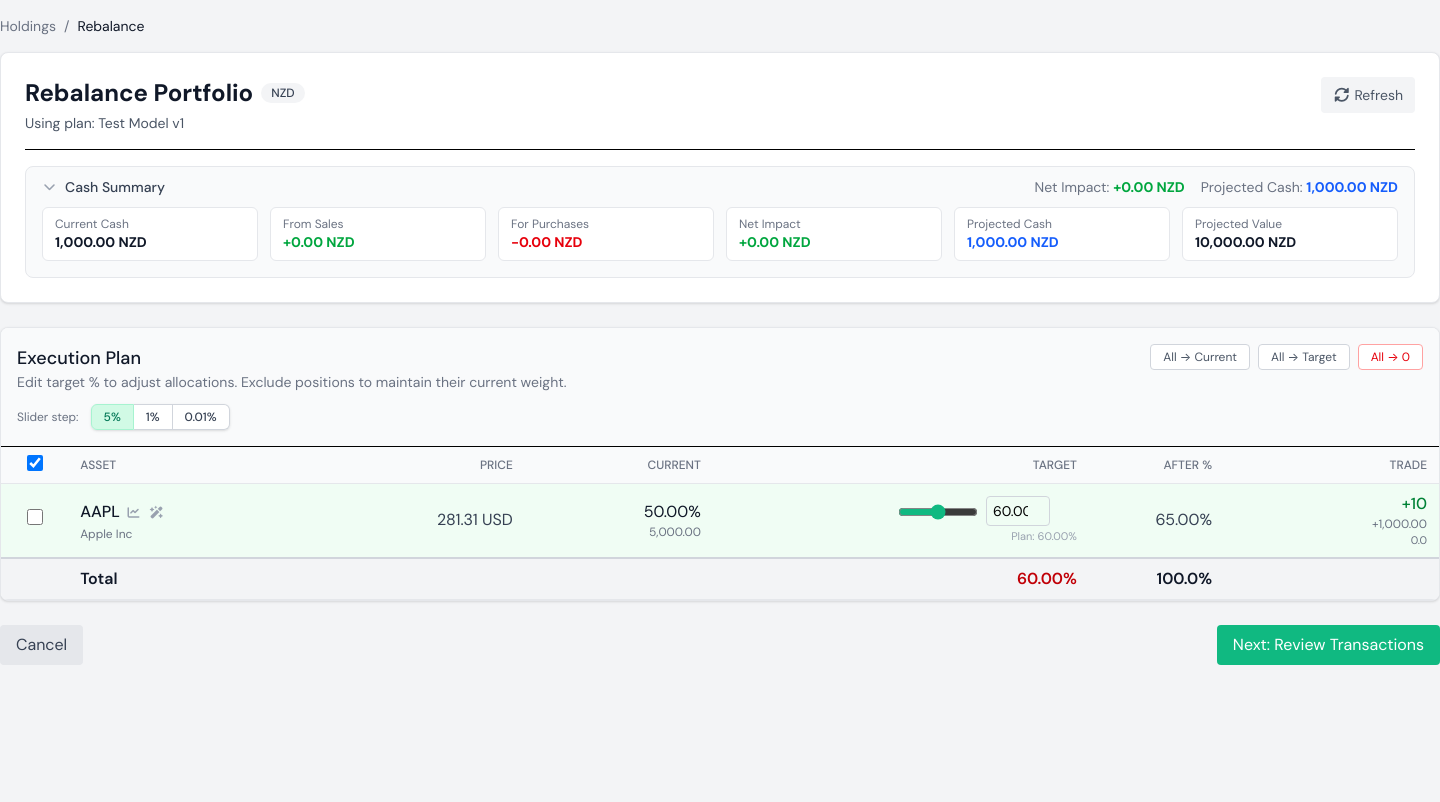
Test: ExecuteRebalancePage › preview table's price cell applies the same nativePrice/priceCurrency pairing as the configure table
Click the button "Next: Review Transactions" at (1328, 644), box top-left (1217, 624), bottom-right (1439, 664)
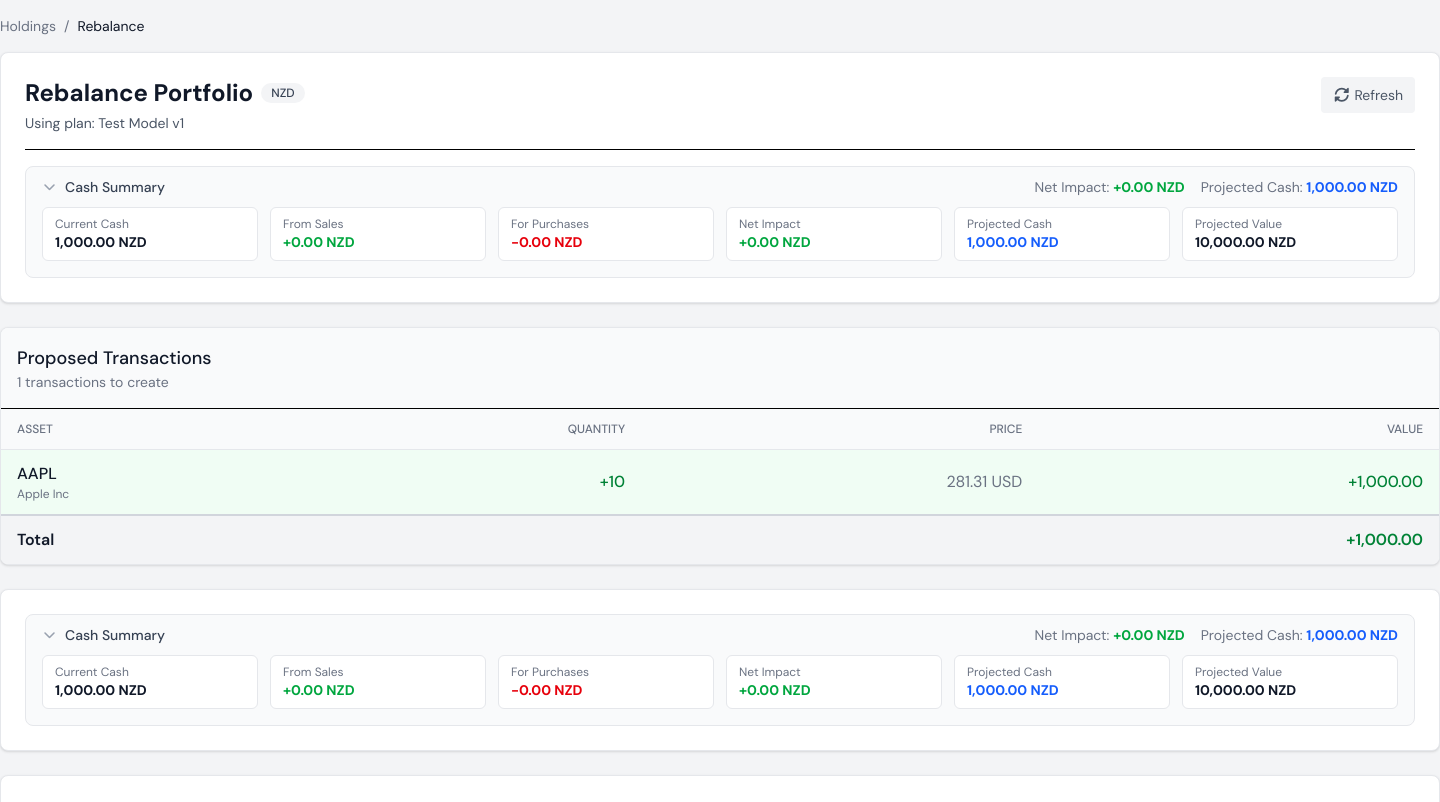
Check: the text "281.31 USD" is shown, box top-left (641, 450), bottom-right (1038, 515)
Check: the heading "Proposed Transactions" is shown, box top-left (17, 346), bottom-right (212, 370)
